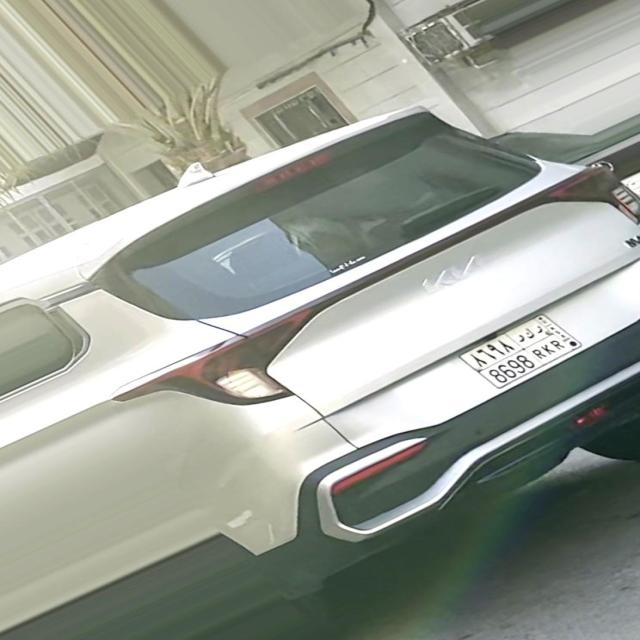Car-plate: (446, 297, 614, 402)
